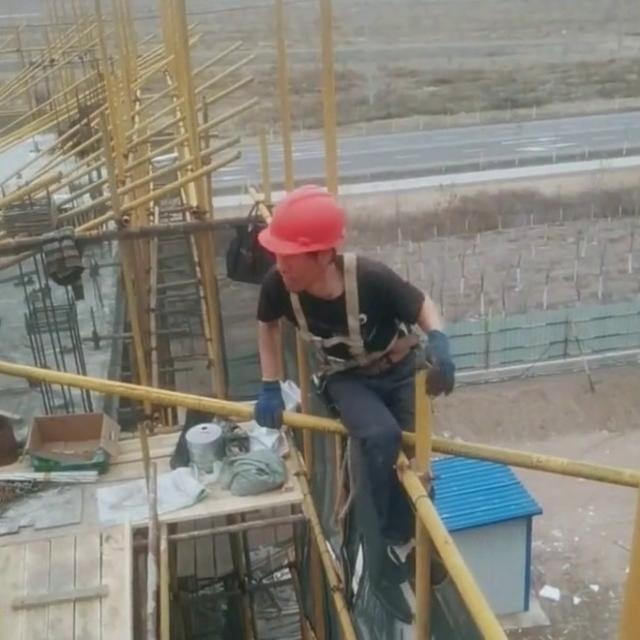Arnes_seguridad: (280, 247, 400, 388)
